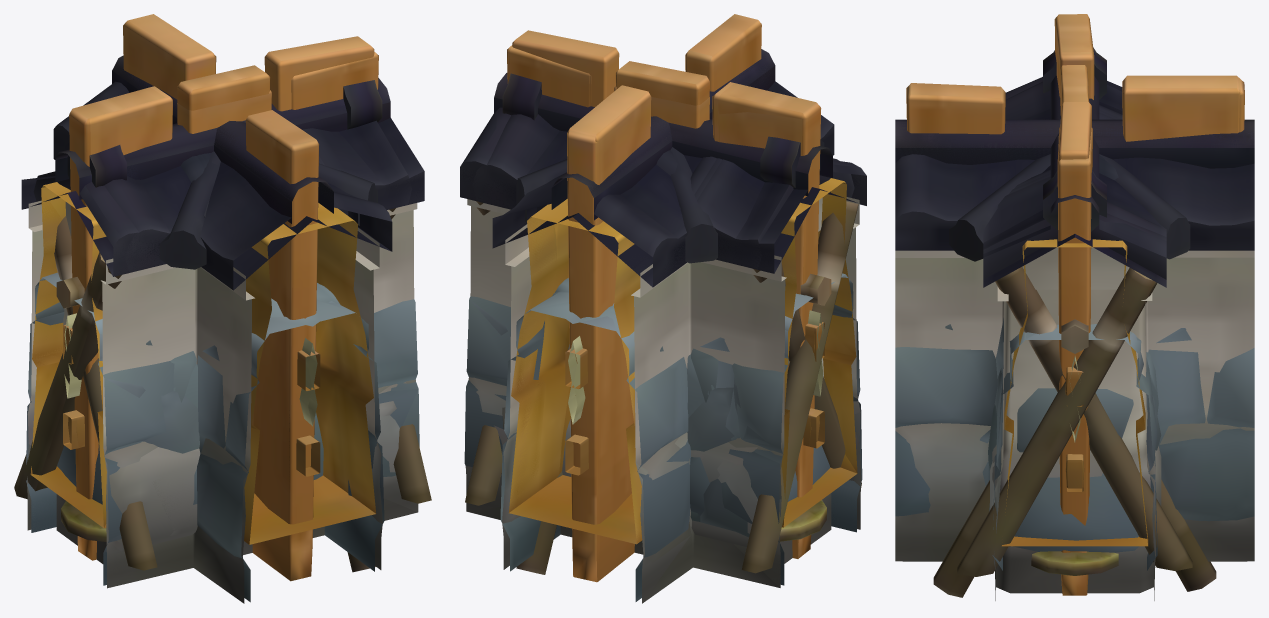
Rendered from fences-6.glb.
3 renders of one model, left to right at view 1: azimuth 30°, elevation 25°; view 2: azimuth 150°, elevation 25°; view 3: azimuth 270°, elevation 25°, orthographic.
Visible parts, largest first — view 1: mFenceJapanese (×6), mFenceVerticalWood (×6), mFenceDriedStraw (×5), mFenceStone (×6), mFenceJuneBride (×3); view 2: mFenceJapanese (×6), mFenceVerticalWood (×6), mFenceDriedStraw (×6), mFenceStone (×6), mFenceJuneBride (×3); view 3: mFenceJapanese (×6), mFenceStone (×5), mFenceDriedStraw (×4), mFenceVerticalWood (×6), mFenceJuneBride.
Boxes of the visible parts, x1,y1,x2,y2 form: mFenceJapanese (×6): (21, 55, 424, 603); mFenceVerticalWood (×6): (63, 14, 378, 581); mFenceDriedStraw (×5): (14, 182, 431, 572); mFenceStone (×6): (26, 272, 419, 602); mFenceJuneBride (×3): (61, 334, 317, 541); mFenceJapanese (×6): (460, 49, 866, 603); mFenceVerticalWood (×6): (507, 14, 824, 582); mFenceDriedStraw (×6): (465, 178, 861, 574); mFenceStone (×6): (464, 273, 862, 601); mFenceJuneBride (×3): (568, 332, 826, 541); mFenceJapanese (×6): (895, 47, 1254, 600); mFenceStone (×5): (895, 318, 1254, 570); mFenceDriedStraw (×4): (933, 239, 1216, 597); mFenceVerticalWood (×6): (906, 14, 1244, 595); mFenceJuneBride: (1031, 551, 1118, 575).
Bounding box in the file's own units: 10.24 × 14.7 × 10.
30 materials, 30 textured.
